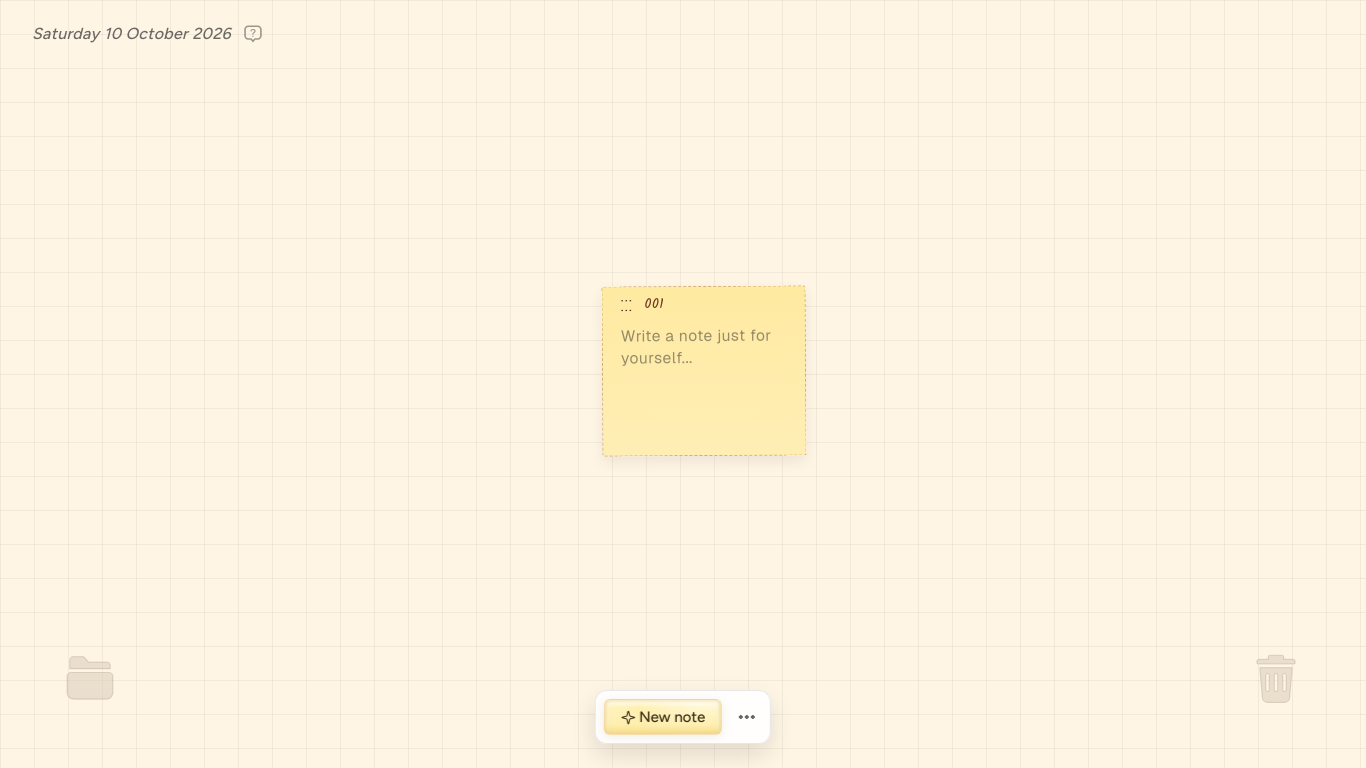
Test: shows local-only storage help next to the date
Expected: the icon next to "Saturday 10 October 2026" is shown, 244,24 -> 264,44
Expected: the text "1. Saved only in this browser." is not shown
Hover over the button named "Storage help": x=254, y=34 242,22 -> 265,45
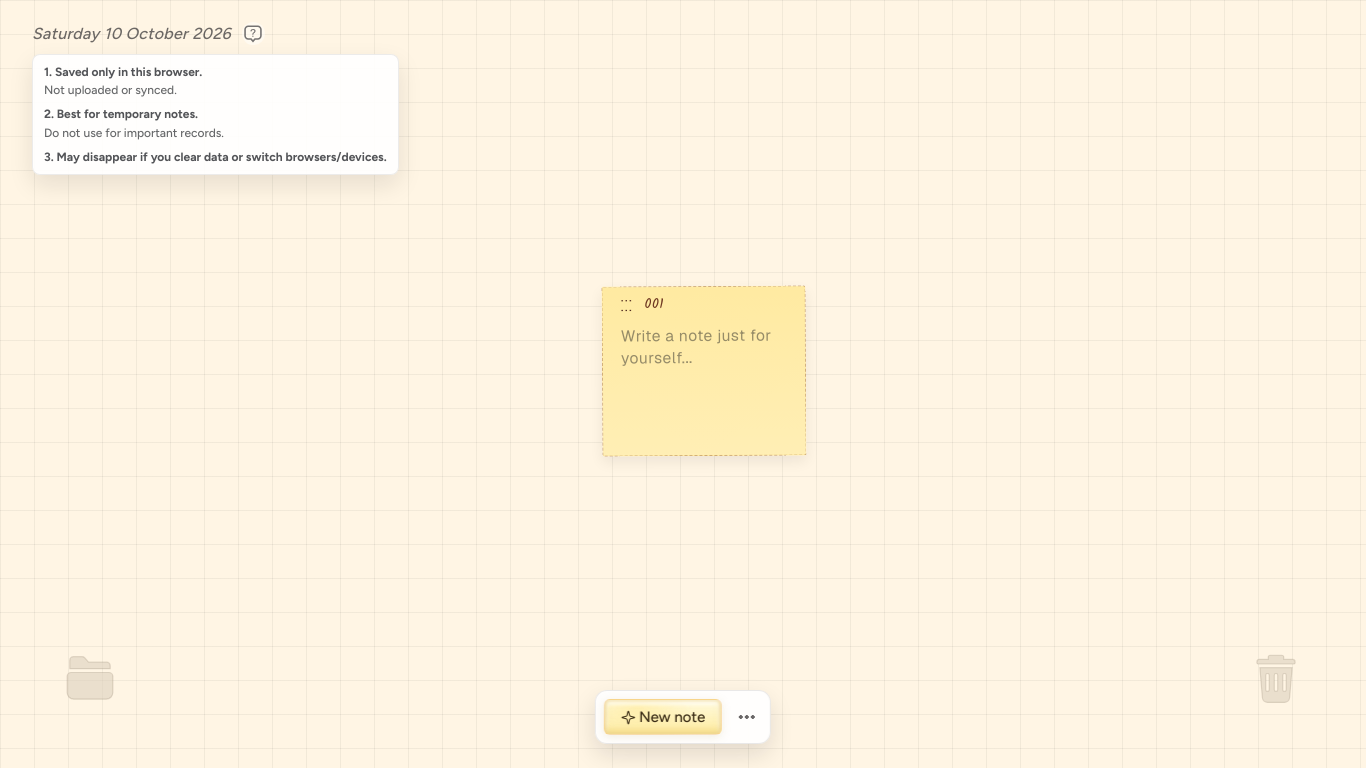
Result: the text "1. Saved only in this browser." is shown at 44,65 -> 202,79
Result: the text "Not uploaded or synced." is shown at 44,83 -> 177,97
Result: the text "2. Best for temporary notes." is shown at 44,107 -> 198,121
